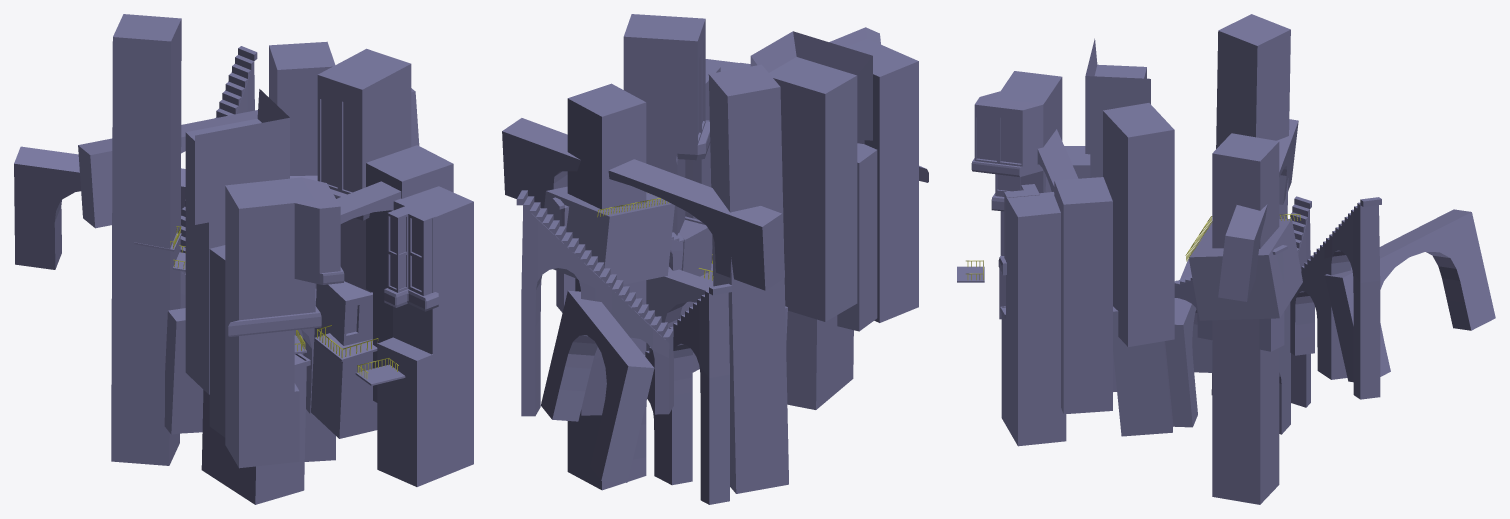
Rendered from city2.glb.
3 renders of one model, left to right at view 1: azimuth 30°, elevation 25°; view 2: azimuth 150°, elevation 25°; view 3: azimuth 270°, elevation 25°, orthographic. The views are drawn at different scales.
Visible parts, largest first — view 1: Cube.013, Cube.001, Cube.002, Cube.004, Cube.009, Cube.008, Cube.011, Cube.016, Cube.007, Cube.005, Cube.006, Cube (+6 smaller); view 2: Cube.004, Cube.013, Cube.017, Cube.014, Cube.001, Cube.015, Cube.016, Cube.009, Cube.011, Cube.012, Cube.005, Cube.003 (+4 smaller); view 3: Cube.011, Cube.009, Cube.002, Cube.007, Cube.014, Cube.016, Cube.001, Cube.013, Cube.012, Cube.008, Cube.017, Cube (+5 smaller).
Boxes of the visible parts, box(x1,y1,x2,y2) form: Cube.013: box(111, 14, 181, 465); Cube.001: box(225, 177, 344, 468); Cube.002: box(377, 186, 473, 486); Cube.004: box(185, 89, 289, 394); Cube.009: box(317, 48, 411, 292); Cube.008: box(311, 281, 377, 438); Cube.011: box(269, 41, 335, 461); Cube.016: box(14, 146, 185, 269); Cube.007: box(366, 145, 453, 402); Cube.005: box(201, 353, 310, 504); Cube.006: box(384, 204, 438, 311); Cube: box(164, 289, 316, 434); Cube.004: box(750, 31, 872, 321); Cube.013: box(708, 64, 788, 493); Cube.017: box(502, 118, 784, 290); Cube.014: box(516, 190, 673, 416); Cube.001: box(829, 27, 928, 322); Cube.015: box(633, 283, 732, 504); Cube.016: box(541, 290, 654, 482); Cube.009: box(623, 14, 710, 235); Cube.011: box(567, 83, 646, 490); Cube.012: box(544, 186, 674, 284); Cube.005: box(786, 310, 853, 409); Cube.003: box(837, 143, 877, 331); Cube.011: box(1212, 133, 1279, 504); Cube.009: box(1103, 103, 1174, 346); Cube.002: box(1000, 192, 1066, 446); Cube.007: box(1054, 177, 1112, 414); Cube.014: box(1290, 197, 1381, 399); Cube.016: box(1324, 209, 1495, 382); Cube.001: box(971, 71, 1062, 319); Cube.013: box(1211, 14, 1290, 394); Cube.012: box(1189, 218, 1302, 320); Cube.008: box(1113, 306, 1173, 436); Cube.017: box(1218, 119, 1298, 301); Cube: box(1165, 259, 1212, 427).
Bounding box in the file's own units: 46.13 × 64.07 × 78.68.
Materials: 2 (2 with a texture image).
